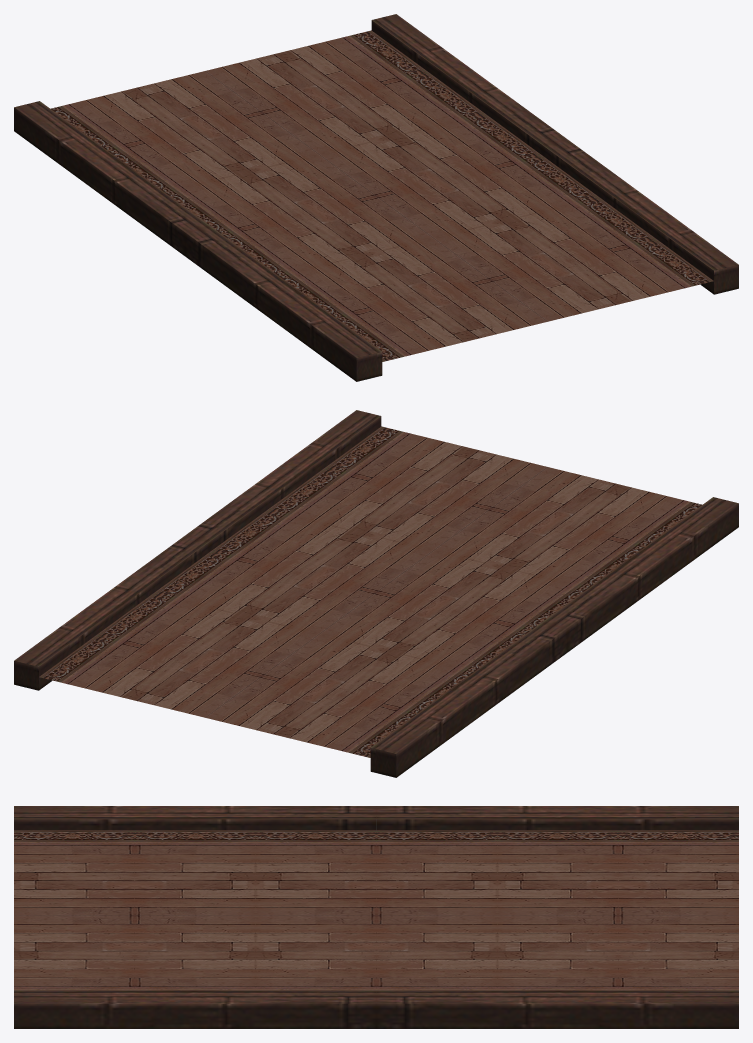
Rendered from S2_Build_XSC088.FBX.
3 views of the same model, one above another, from view 1: azimuth 30°, elevation 25°; view 2: azimuth 150°, elevation 25°; view 3: azimuth 270°, elevation 25° (orthographic). The views are drawn at different scales.
Visible parts, largest first — view 1: S2_Build_XSC088; view 2: S2_Build_XSC088; view 3: S2_Build_XSC088.
Boxes of the visible parts, box(x1,y1,x2,y2) form: S2_Build_XSC088: box(14, 14, 738, 381); S2_Build_XSC088: box(14, 410, 738, 777); S2_Build_XSC088: box(14, 806, 738, 1028).
Size of the model in its own units: 4308 by 257 by 6686.
